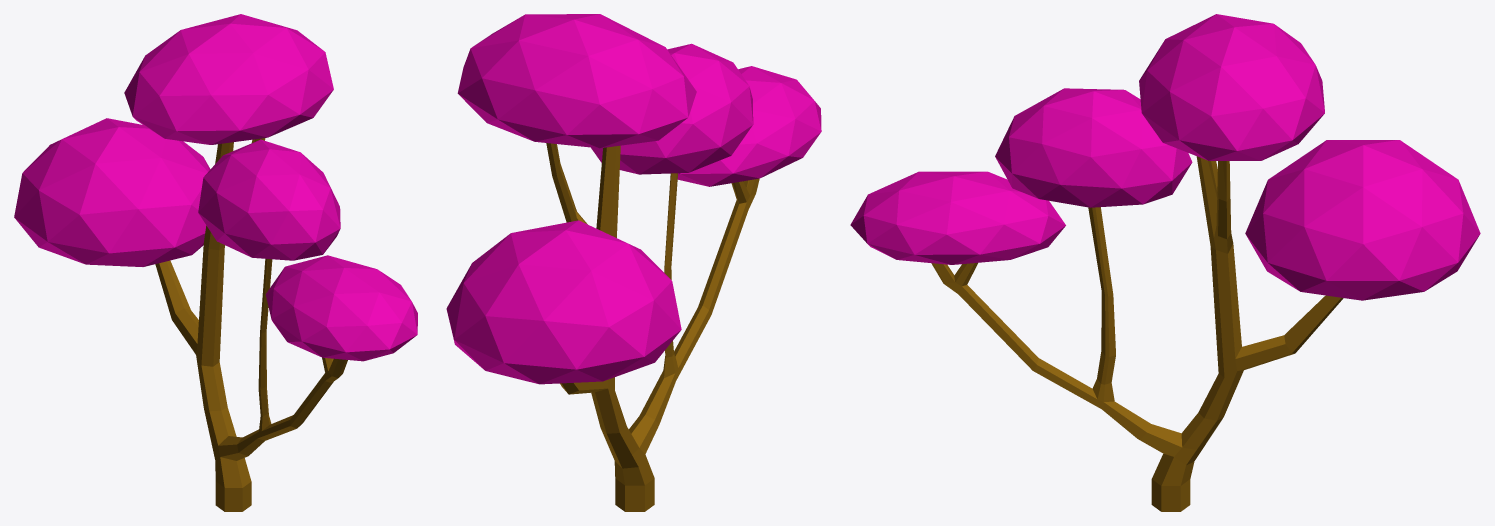
File: sakura_tree.glb
3 views of the same model, side by side, from view 1: azimuth 30°, elevation 25°; view 2: azimuth 150°, elevation 25°; view 3: azimuth 270°, elevation 25° (orthographic). The views are drawn at different scales.
Parts seen in each view (by area): view 1: Tree4; view 2: Tree4; view 3: Tree4.
Part boxes in pixels (bbox=[...]): Tree4: bbox=[14, 14, 417, 511]; Tree4: bbox=[446, 14, 821, 511]; Tree4: bbox=[850, 14, 1480, 511].
Bounding box in the file's own units: 3.77 × 6.85 × 7.96.
